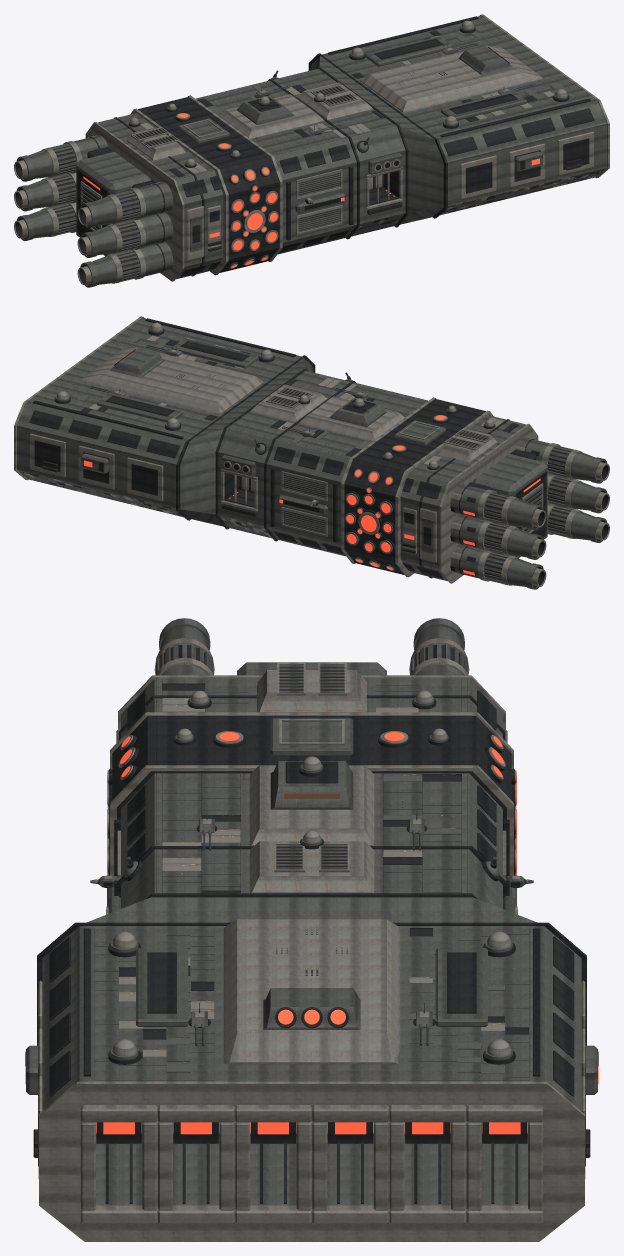
The model's file is 機戰風.glb.
3 renders of one model, top to bottom at view 1: azimuth 30°, elevation 25°; view 2: azimuth 150°, elevation 25°; view 3: azimuth 270°, elevation 25°, orthographic. The views are drawn at different scales.
Visible parts, largest first — view 1: bow_bow_mid, mid_mid, bow_light, bow_dark, bow_mid, ring_dark, stern_mid, stern_light, hangar_hull_mid, ring_light, engines.thruster.001, engines.thruster.003 (+14 smaller); view 2: bow_bow_mid, mid_mid, bow_light, bow_dark, bow_mid, ring_dark, stern_mid, stern_light, hangar_hull_mid, ring_light, engines.thruster, engines.thruster.002 (+14 smaller); view 3: bow_light, bow_bow_mid, bow_bow_light, bow_dark, bow_mid, mid_mid, ring_dark, hangar_hull_mid, stern_mid, ring_light, mid_light, stern_light (+10 smaller).
Boxes of the visible parts, bbox=[...] form: bow_bow_mid: bbox=[322, 15, 606, 213]; mid_mid: bbox=[196, 80, 356, 254]; bow_light: bbox=[359, 45, 593, 199]; bow_dark: bbox=[308, 16, 594, 227]; bow_mid: bbox=[311, 36, 542, 224]; ring_dark: bbox=[138, 97, 279, 272]; stern_mid: bbox=[76, 113, 223, 279]; stern_light: bbox=[80, 122, 220, 281]; hangar_hull_mid: bbox=[273, 68, 405, 236]; ring_light: bbox=[130, 95, 282, 275]; engines.thruster.001: bbox=[77, 182, 173, 228]; engines.thruster.003: bbox=[77, 212, 173, 257]; bow_bow_mid: bbox=[17, 317, 301, 517]; mid_mid: bbox=[267, 382, 427, 556]; bow_light: bbox=[30, 347, 264, 501]; bow_dark: bbox=[29, 318, 315, 529]; bow_mid: bbox=[81, 338, 312, 526]; ring_dark: bbox=[344, 399, 485, 574]; stern_mid: bbox=[400, 415, 547, 581]; stern_light: bbox=[403, 424, 543, 583]; hangar_hull_mid: bbox=[218, 370, 350, 537]; ring_light: bbox=[341, 397, 493, 577]; engines.thruster: bbox=[450, 484, 546, 530]; engines.thruster.002: bbox=[450, 514, 546, 559]; bow_light: bbox=[38, 919, 585, 1224]; bow_bow_mid: bbox=[42, 926, 581, 1205]; bow_bow_light: bbox=[39, 1081, 584, 1241]; bow_dark: bbox=[25, 893, 598, 1203]; bow_mid: bbox=[26, 897, 597, 1094]; mid_mid: bbox=[107, 761, 516, 906]; ring_dark: bbox=[109, 716, 514, 875]; hangar_hull_mid: bbox=[121, 849, 502, 908]; stern_mid: bbox=[121, 662, 502, 737]; ring_light: bbox=[107, 712, 516, 875]; mid_light: bbox=[117, 765, 506, 880]; stern_light: bbox=[116, 663, 507, 742].
Size of the model in its own units: 1200 by 311 by 600.
Materials: 7 (4 with a texture image).
